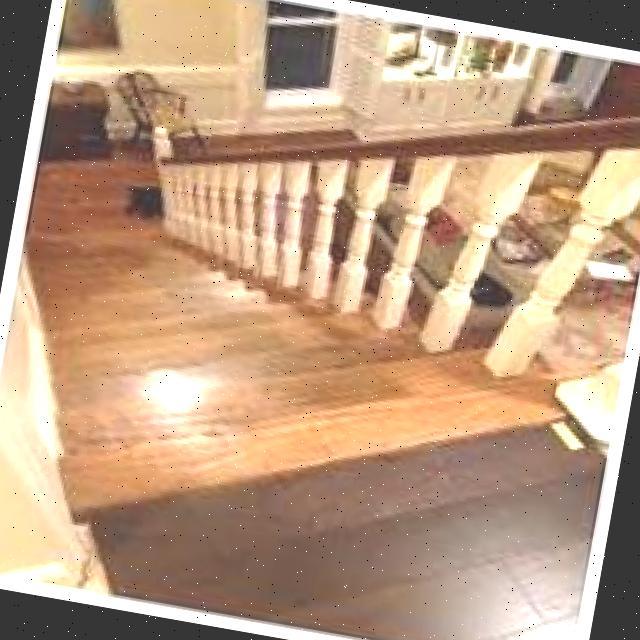stairs: (0, 169, 613, 558)
